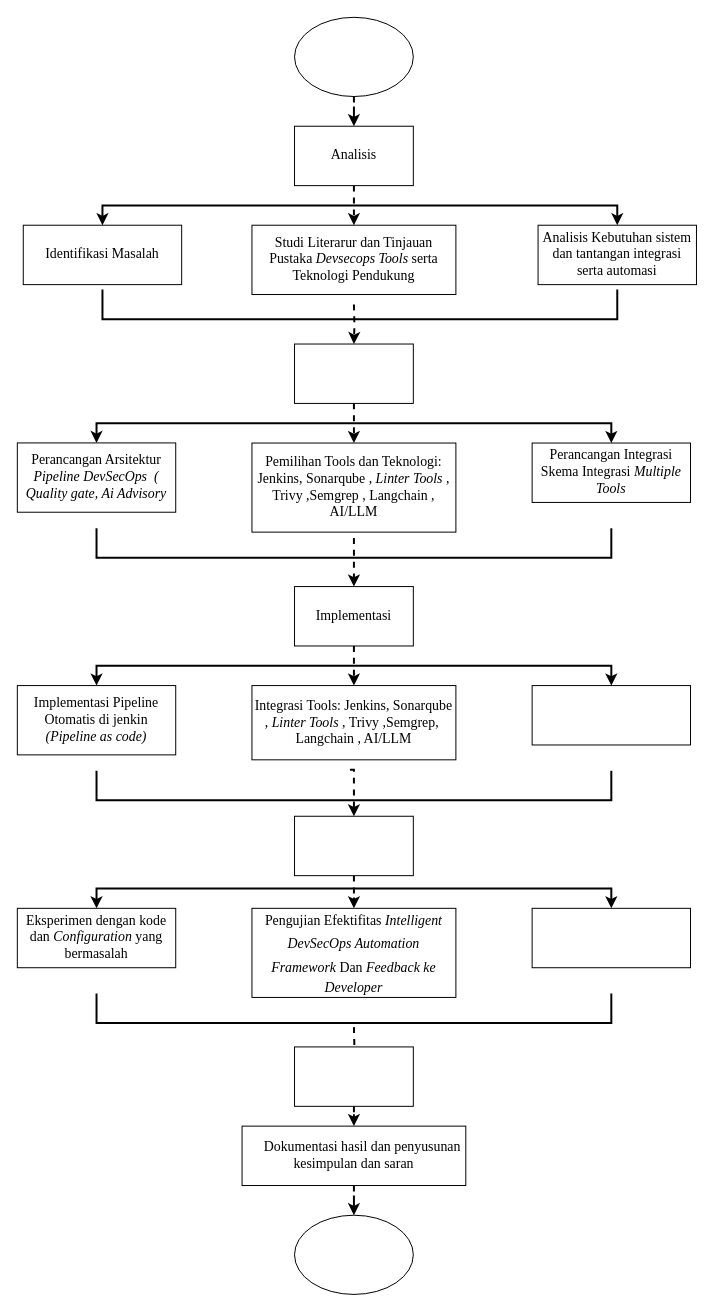
This 714x1312 diagram has some shape labels left out. The shapes that lost their labels are listed below. From the top down, each one's centre as x and y in pixels, then its label:
(x=353, y=56): Mulai
(x=353, y=373): Desain
(x=611, y=715): Penyiapan LLM Dan Ai Platform Advisory Notifikasi ke Telegram
(x=353, y=845): Evaluasi
(x=611, y=937): Validasi Kualitas Advisory AI Oleh user (Dev/Sec)
(x=353, y=1076): Pelaporan
(x=353, y=1254): Selesai
